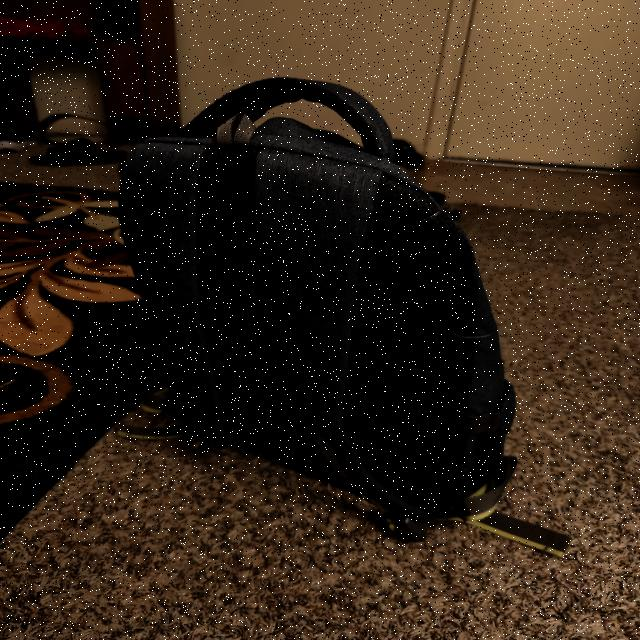bag: (114, 74, 492, 487)
